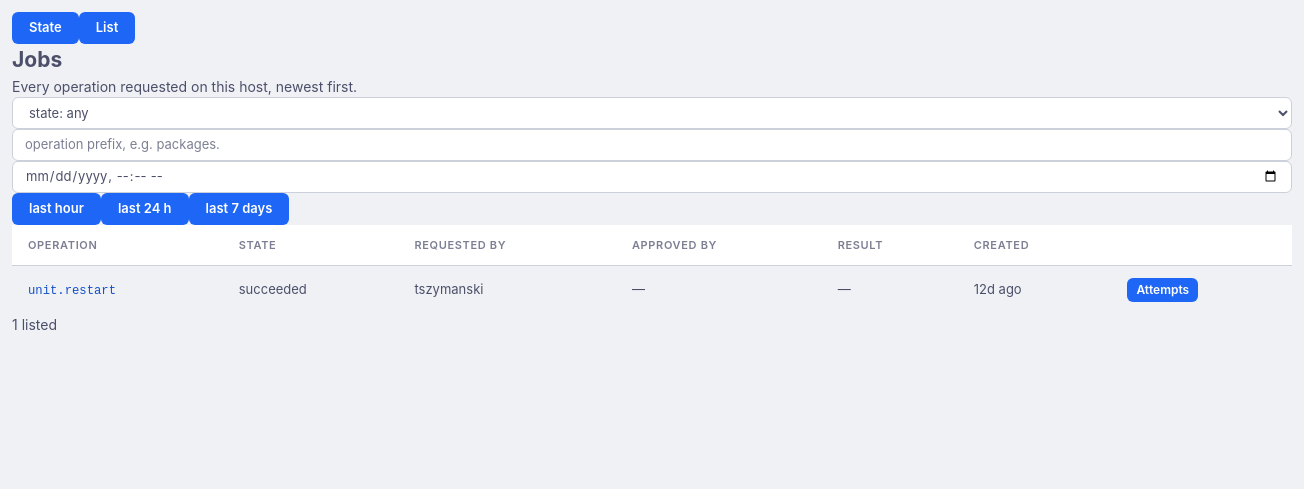
Test: the jobs module of a host › opens the attempts of a job under its own row, with the way to its journal
This screenshot has width=1304, height=489.
Click the button with test id "open-j1" at [1163, 290], box left=1127, top=278, right=1198, bottom=302
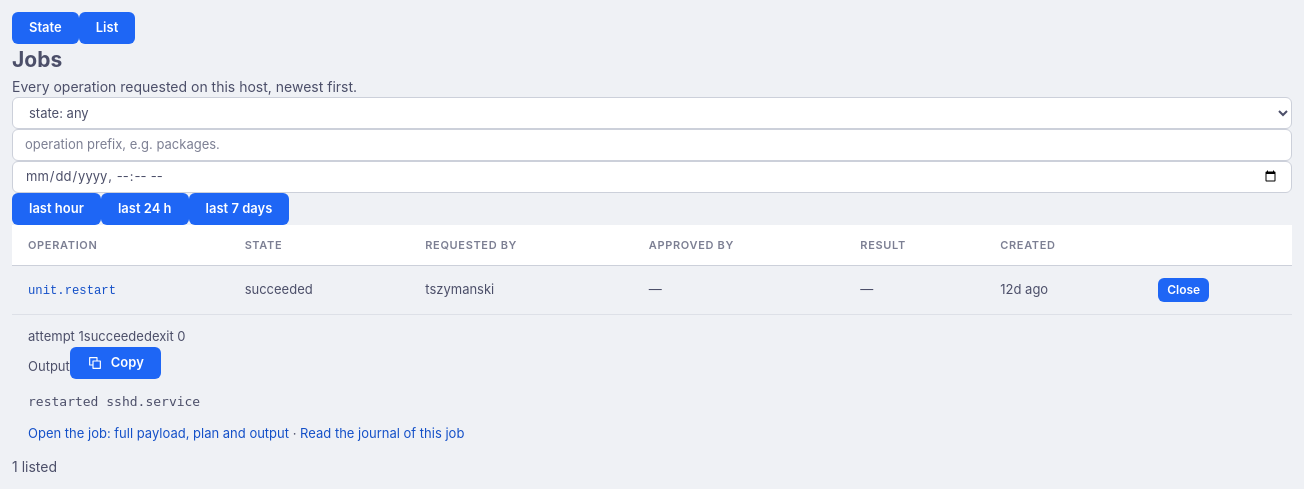
Expected: the element with test id "stdout-at1" is shown, left=28, top=346, right=200, bottom=408
Expected: the element with test id "stdout-at1" shows "restarted sshd.service", left=28, top=394, right=200, bottom=408
